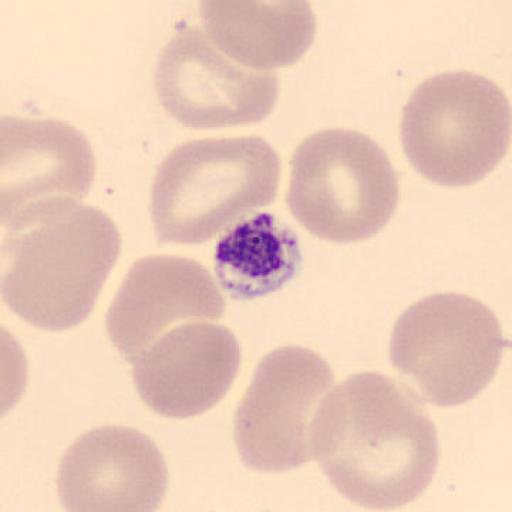Platelet: (209, 210, 306, 302)
RBC: (306, 369, 441, 512), (0, 195, 122, 333), (147, 134, 285, 248), (102, 252, 229, 369), (150, 22, 282, 132), (284, 125, 402, 247), (396, 68, 511, 192), (387, 291, 506, 409), (232, 344, 337, 474), (127, 320, 244, 422), (3, 114, 98, 226), (54, 423, 171, 512), (195, 0, 318, 71), (0, 324, 30, 421)
